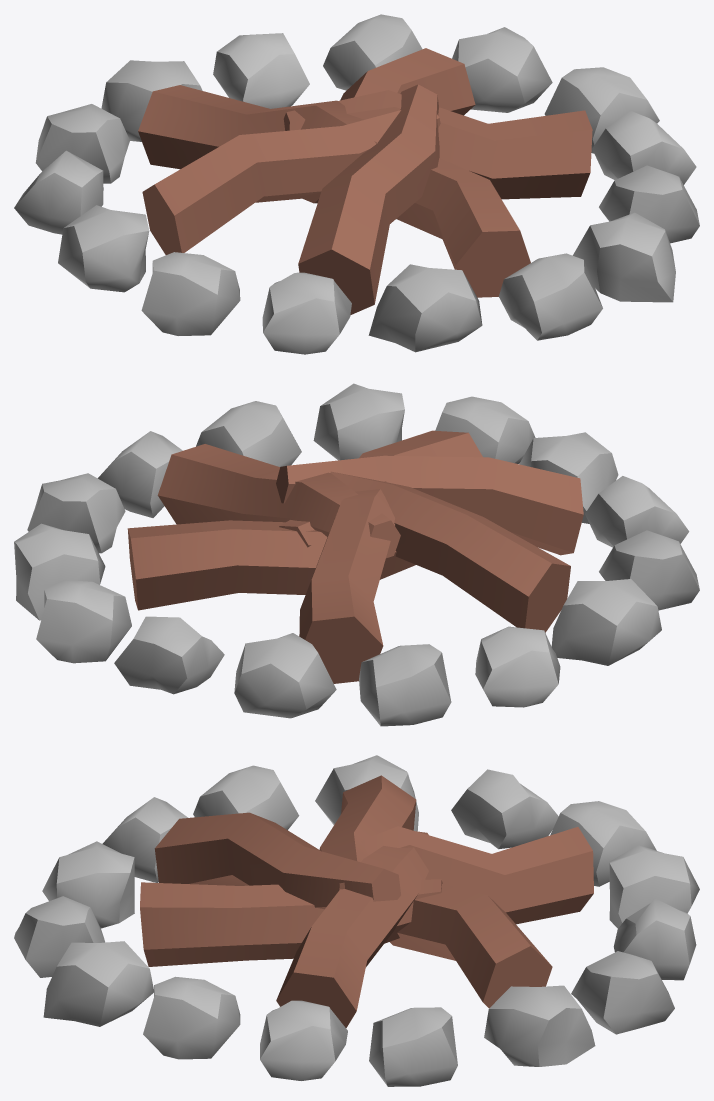
File: Campfire.fbx
The picture shows the model from 3 angles, top to bottom: view 1: azimuth 30°, elevation 25°; view 2: azimuth 150°, elevation 25°; view 3: azimuth 270°, elevation 25°; orthographic projection.
Visible parts, largest first — view 1: pasted__pasted__pasted__pCylinder6, pasted__pasted__pasted__pCylinder3, pasted__pasted__pasted__pCylinder1, pasted__pasted__pasted__pCylinder5, pasted__pasted__pasted__pCylinder4, pasted__pasted__pasted__pCube1, pasted__pasted__pasted__pCube3, pasted__pasted__pasted__pCube2, pasted__pasted__pasted__pCube7, pasted__pasted__pasted__pCube8, pasted__pasted__pasted__pCube14, pasted__pasted__pasted__pCube6 (+9 smaller); view 2: pasted__pasted__pasted__pCylinder6, pasted__pasted__pasted__pCylinder2, pasted__pasted__pasted__pCylinder3, pasted__pasted__pasted__pCylinder4, pasted__pasted__pasted__pCylinder1, pasted__pasted__pasted__pCube8, pasted__pasted__pasted__pCube11, pasted__pasted__pasted__pCube13, pasted__pasted__pasted__pCube10, pasted__pasted__pasted__pCube12, pasted__pasted__pasted__pCube9, pasted__pasted__pasted__pCube14 (+9 smaller); view 3: pasted__pasted__pasted__pCylinder5, pasted__pasted__pasted__pCylinder3, pasted__pasted__pasted__pCylinder4, pasted__pasted__pasted__pCylinder1, pasted__pasted__pasted__pCylinder2, pasted__pasted__pasted__pCube3, pasted__pasted__pasted__pCube14, pasted__pasted__pasted__pCube4, pasted__pasted__pasted__pCube15, pasted__pasted__pasted__pCube13, pasted__pasted__pasted__pCube5, pasted__pasted__pasted__pCube9 (+9 smaller).
Part boxes in pixels (x1,y1,x2,y2): pasted__pasted__pasted__pCylinder6: [142, 110, 440, 254]; pasted__pasted__pasted__pCylinder3: [298, 84, 439, 315]; pasted__pasted__pasted__pCylinder1: [283, 90, 592, 199]; pasted__pasted__pasted__pCylinder5: [396, 158, 530, 297]; pasted__pasted__pasted__pCylinder4: [138, 85, 377, 169]; pasted__pasted__pasted__pCube1: [368, 264, 482, 352]; pasted__pasted__pasted__pCube3: [573, 212, 675, 302]; pasted__pasted__pasted__pCube2: [498, 253, 602, 340]; pasted__pasted__pasted__pCube7: [141, 252, 240, 335]; pasted__pasted__pasted__pCube8: [58, 205, 149, 292]; pasted__pasted__pasted__pCube14: [452, 27, 552, 112]; pasted__pasted__pasted__pCube6: [262, 272, 351, 354]; pasted__pasted__pasted__pCylinder6: [330, 471, 570, 632]; pasted__pasted__pasted__pCylinder2: [127, 520, 415, 610]; pasted__pasted__pasted__pCylinder3: [276, 455, 583, 555]; pasted__pasted__pasted__pCylinder4: [299, 481, 394, 683]; pasted__pasted__pasted__pCylinder1: [157, 444, 400, 558]; pasted__pasted__pasted__pCube8: [551, 579, 661, 665]; pasted__pasted__pasted__pCube11: [234, 633, 336, 718]; pasted__pasted__pasted__pCube13: [36, 580, 131, 663]; pasted__pasted__pasted__pCube10: [359, 644, 451, 726]; pasted__pasted__pasted__pCube12: [114, 616, 224, 694]; pasted__pasted__pasted__pCube9: [475, 626, 560, 707]; pasted__pasted__pasted__pCube14: [14, 523, 105, 620]; pasted__pasted__pasted__pCylinder5: [140, 879, 442, 966]; pasted__pasted__pasted__pCylinder3: [154, 812, 400, 909]; pasted__pasted__pasted__pCylinder4: [361, 826, 593, 924]; pasted__pasted__pasted__pCylinder1: [276, 831, 428, 1027]; pasted__pasted__pasted__pCylinder2: [390, 884, 552, 1008]; pasted__pasted__pasted__pCube3: [43, 941, 153, 1026]; pasted__pasted__pasted__pCube14: [484, 985, 595, 1066]; pasted__pasted__pasted__pCube4: [143, 976, 240, 1059]; pasted__pasted__pasted__pCube15: [369, 1007, 457, 1086]; pasted__pasted__pasted__pCube13: [571, 951, 674, 1034]; pasted__pasted__pasted__pCube5: [260, 1000, 347, 1080]; pasted__pasted__pasted__pCube9: [451, 769, 558, 849].
Size of the model in its own units: 228 by 43.11 by 228.
